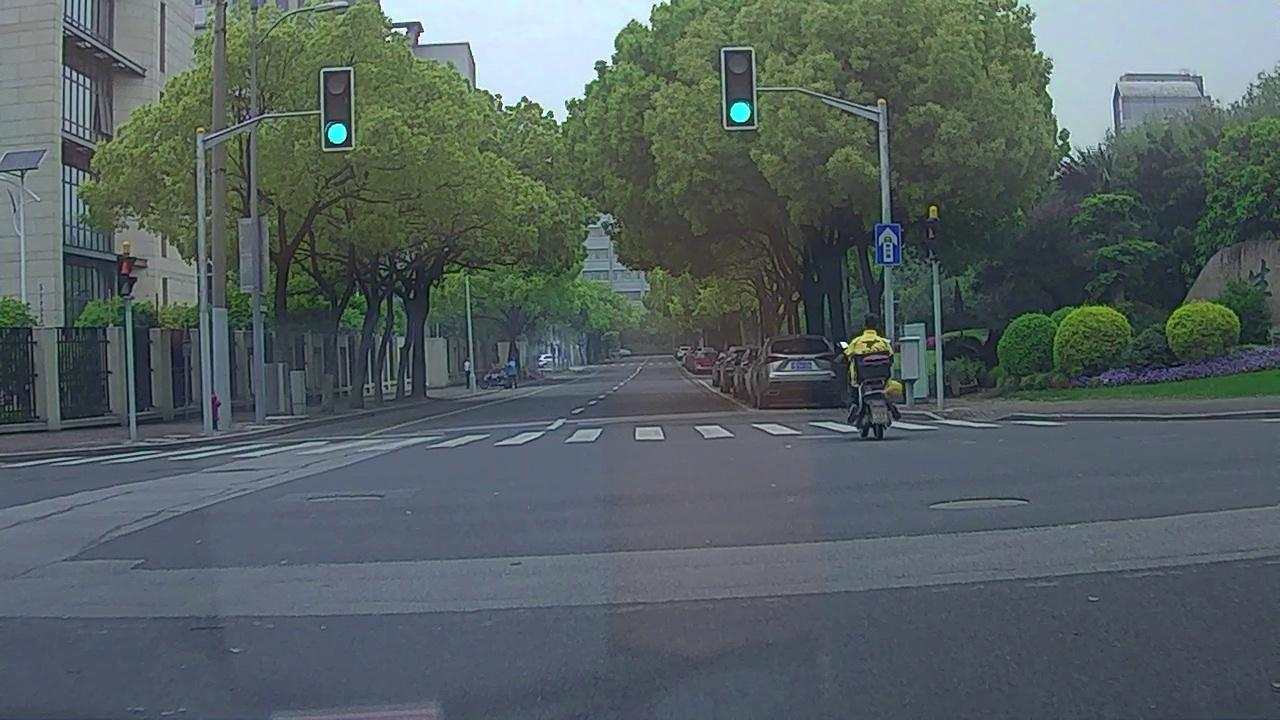traffic_light: (726, 50, 757, 129), (322, 70, 352, 148)
